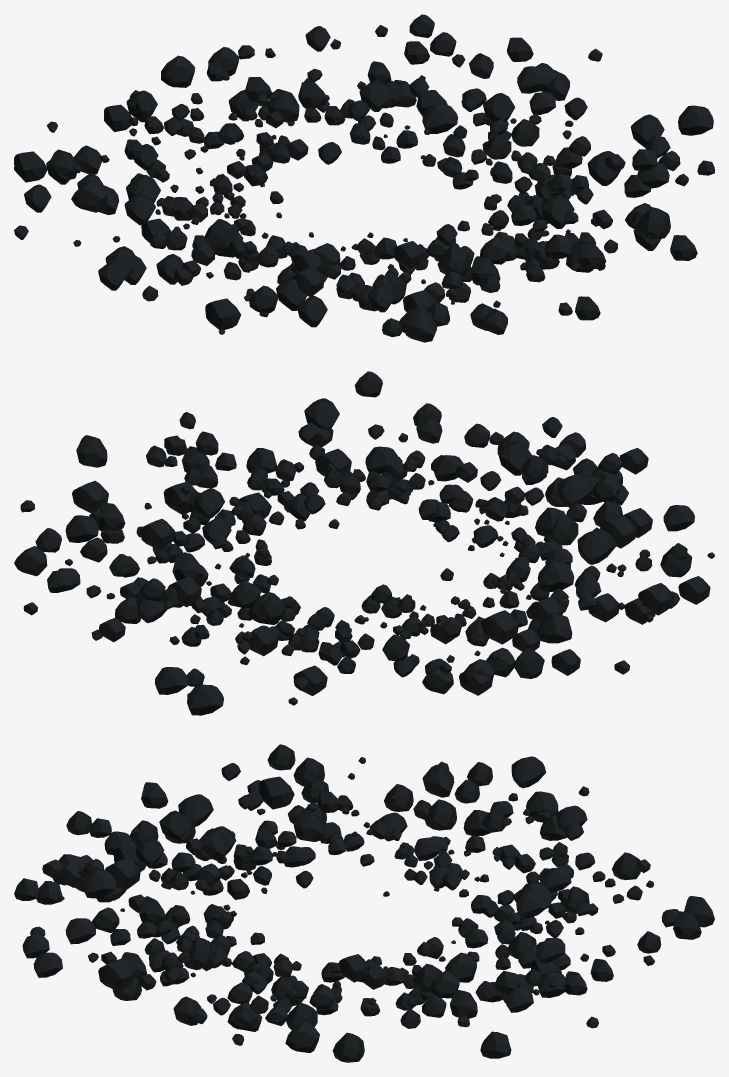
Rendered from Asteroids_Ring.FBX.
3 renders of one model, top to bottom at view 1: azimuth 30°, elevation 25°; view 2: azimuth 150°, elevation 25°; view 3: azimuth 270°, elevation 25°, orthographic. The views are drawn at different scales.
Visible parts, largest first — view 1: Asteroids_Ring; view 2: Asteroids_Ring; view 3: Asteroids_Ring.
Part boxes in pixels (bbox=[...]): Asteroids_Ring: bbox=[14, 14, 714, 342]; Asteroids_Ring: bbox=[14, 371, 714, 715]; Asteroids_Ring: bbox=[14, 744, 714, 1062].
Bounding box in the file's own units: 14180 × 1581 × 14218.
